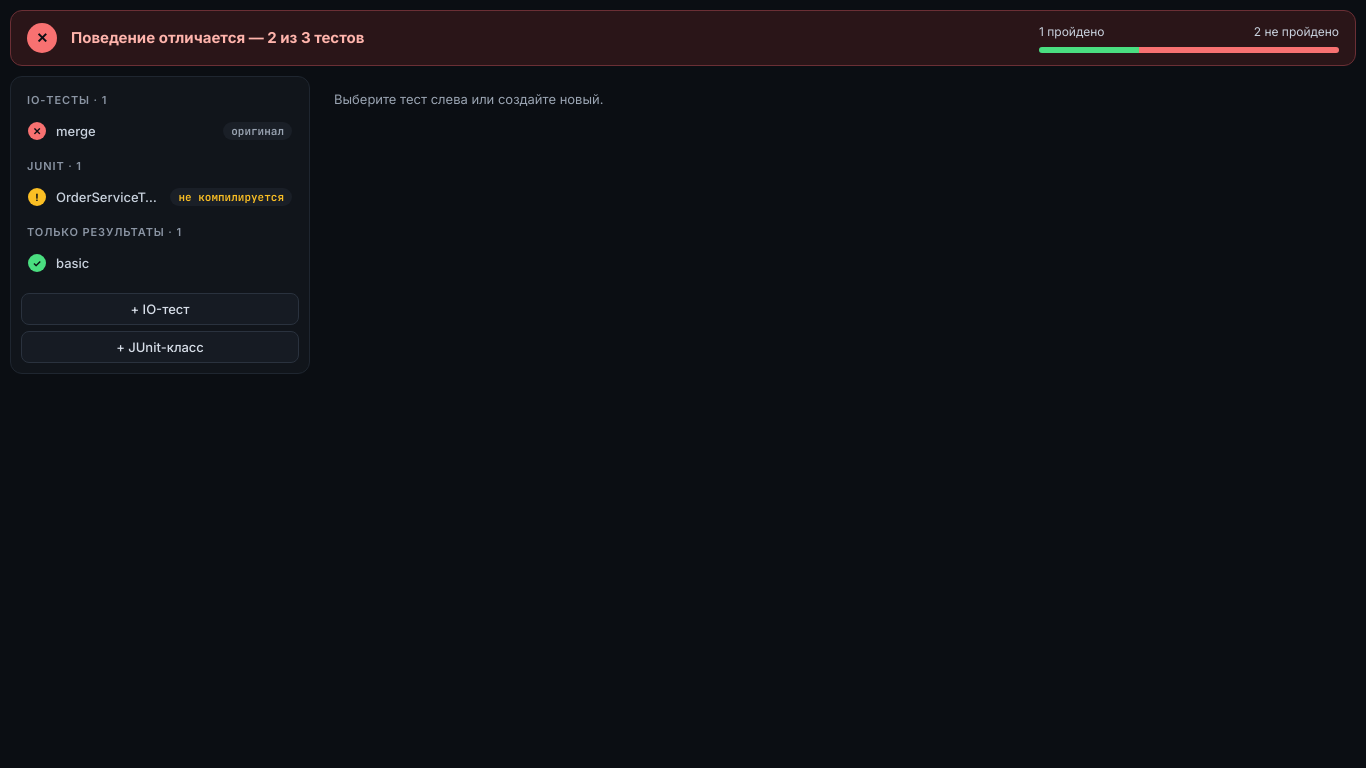
Test: панель тестов › verify.red.json: плашка, статусы в списке, diff вывода и ошибка компиляции
Expected: the message shows "Поведение отличается — 2 из 3 тестов", [71, 28, 364, 47]
Expected: the text "не компилируется" is shown, [170, 188, 292, 206]
Click the button "✕ merge оригинал" at (76,131), box [17, 113, 303, 149]
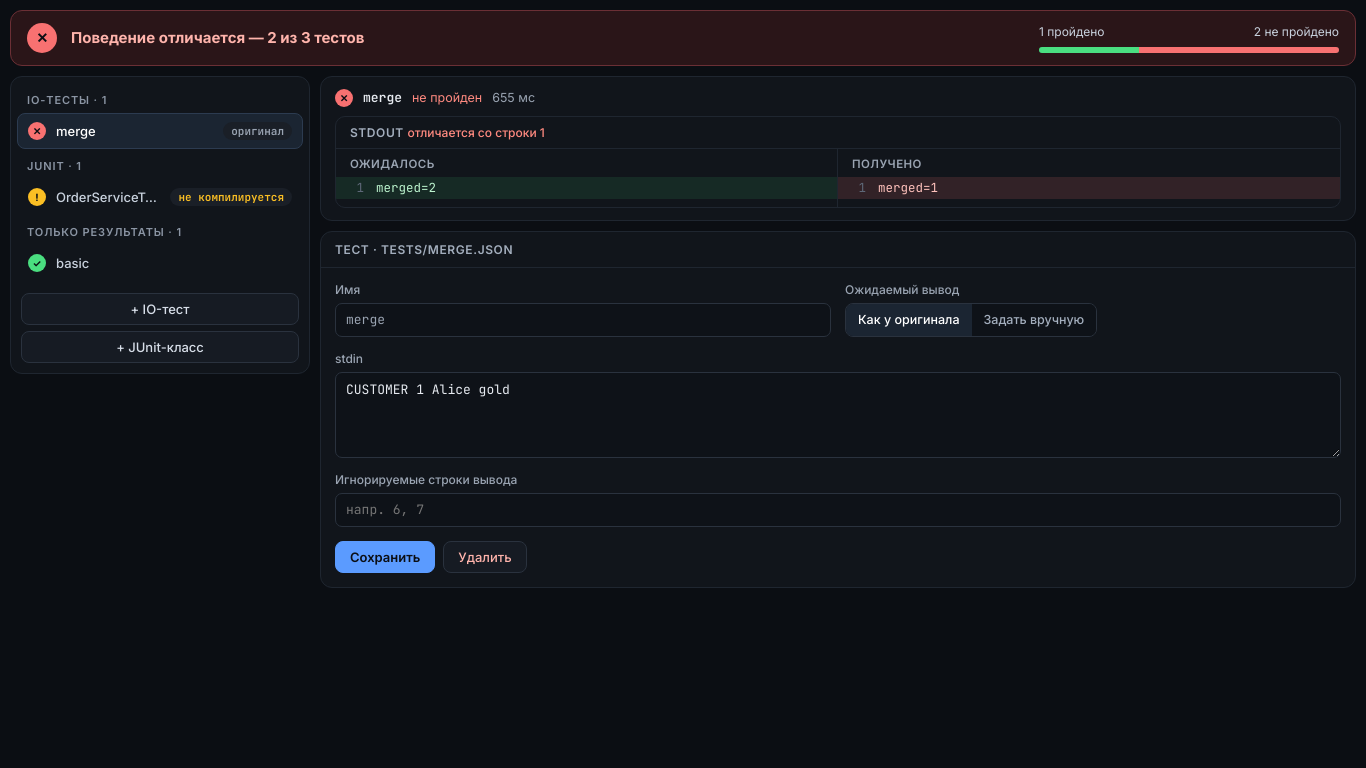
Now the element named "Сравнение вывода" shows "отличается со строки 1", box [335, 116, 1341, 208]
Now the element showing "1 merged=2" is shown, box [336, 177, 837, 199]
Now the element showing "1 merged=1" is shown, box [838, 177, 1340, 199]
Click the button "! OrderServiceTest не компилируется" at (160,197), box [17, 179, 303, 215]
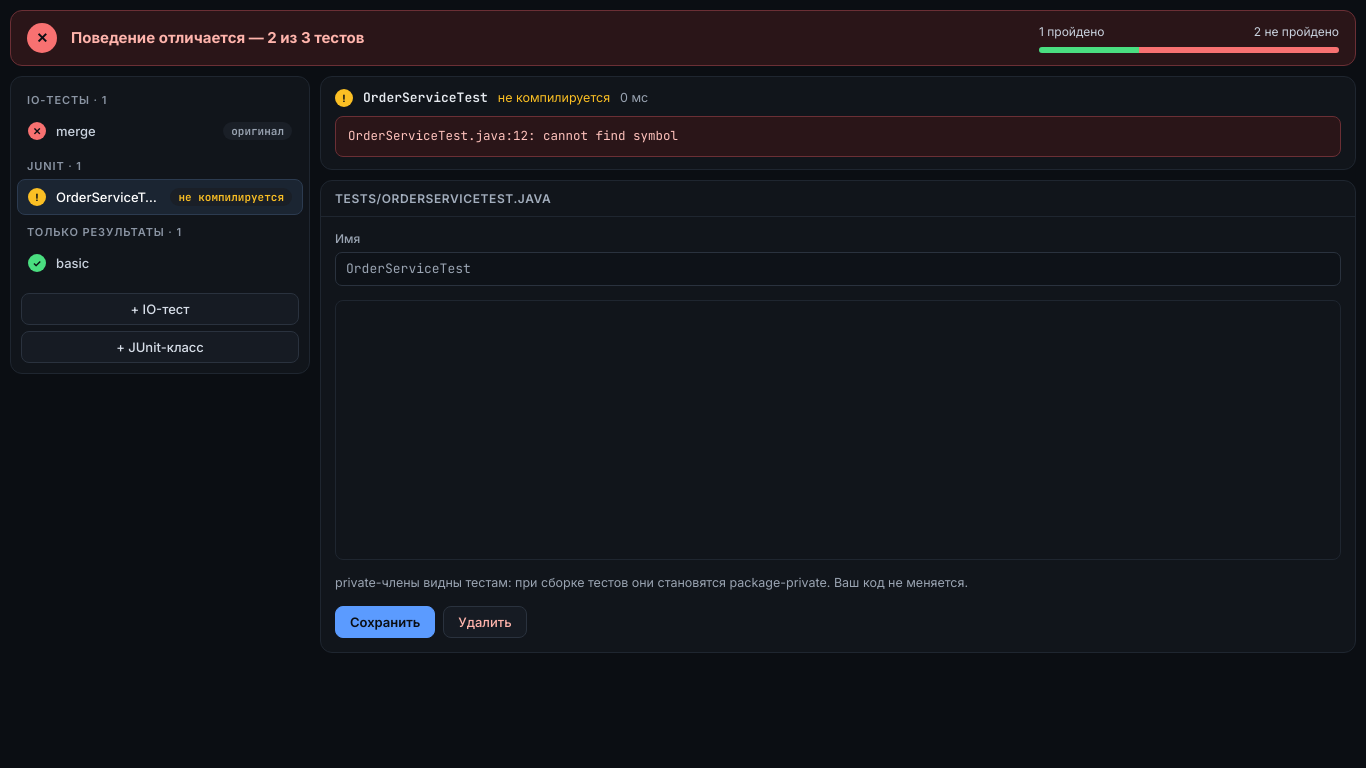
Now the text with test id "result-error" reads "OrderServiceTest.java:12: cannot find symbol", box [348, 127, 678, 144]
